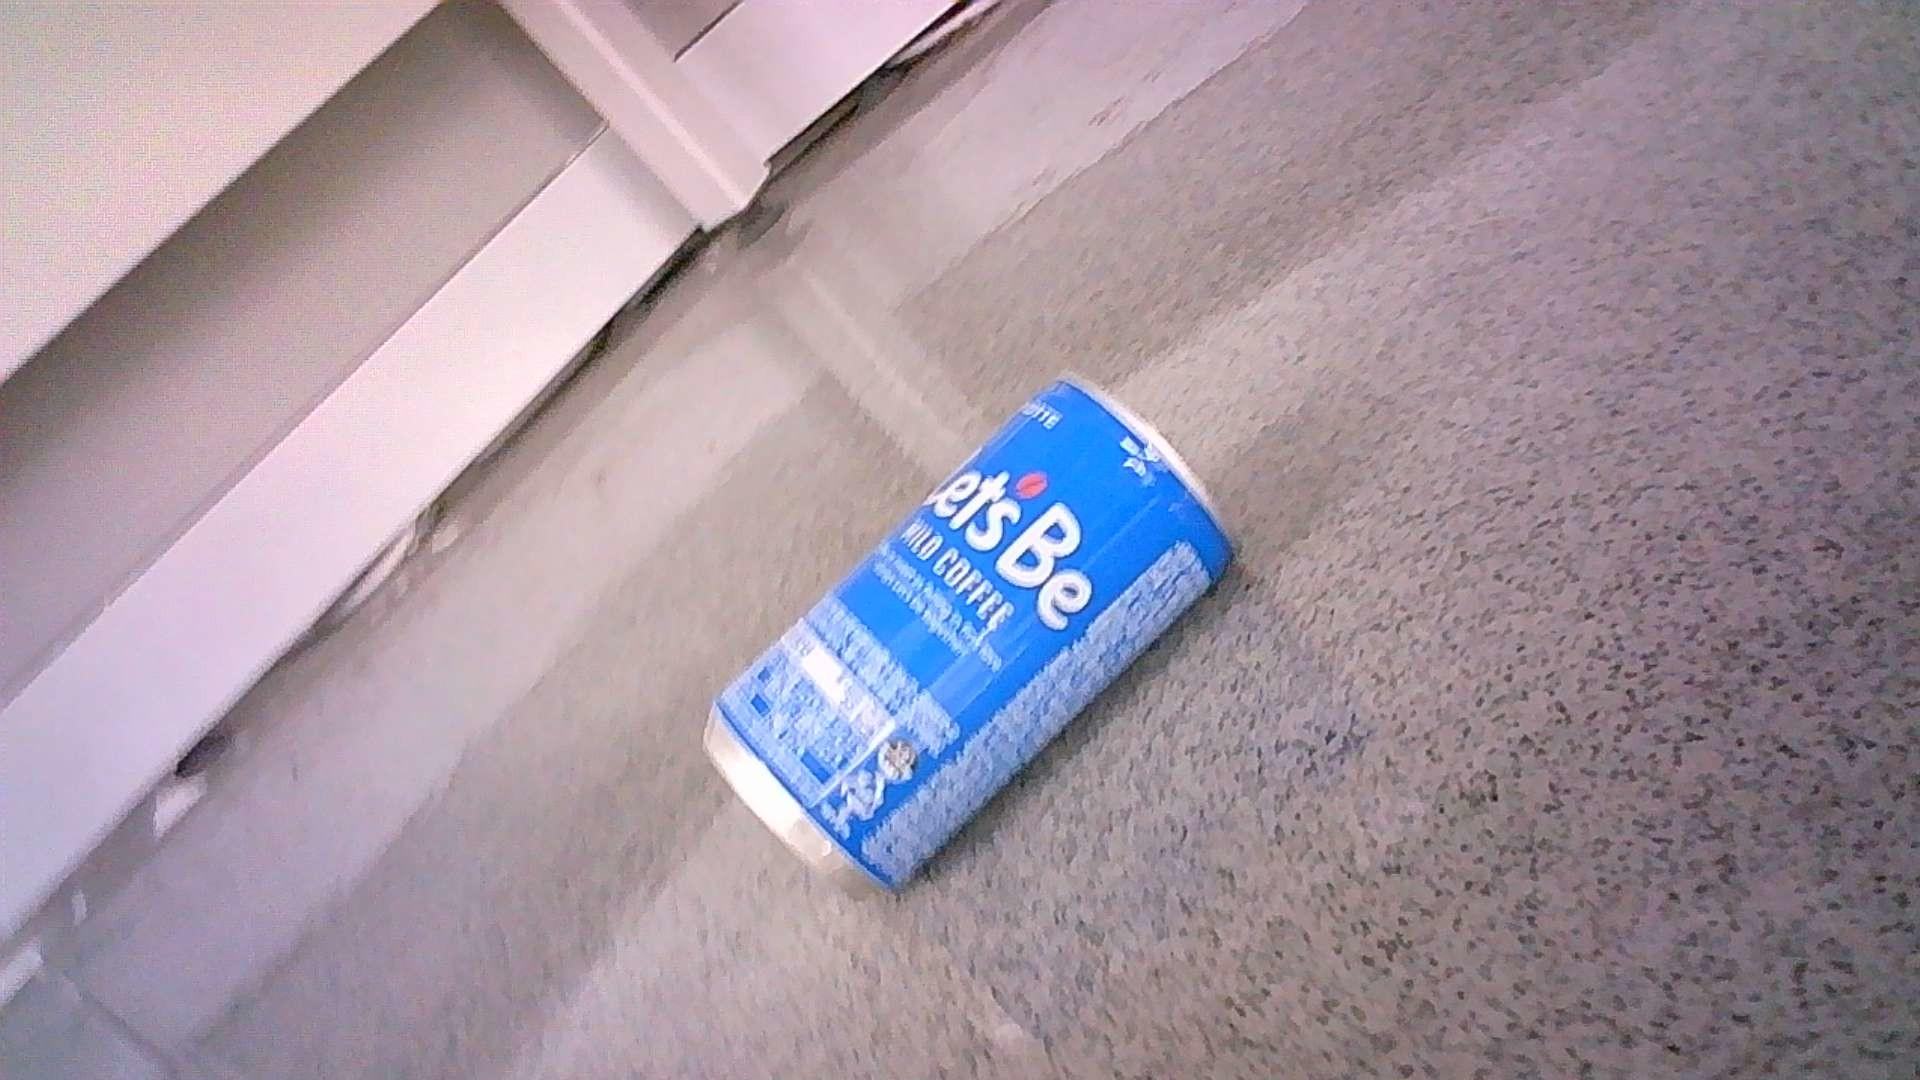letsbe: (700, 373, 1234, 895)
